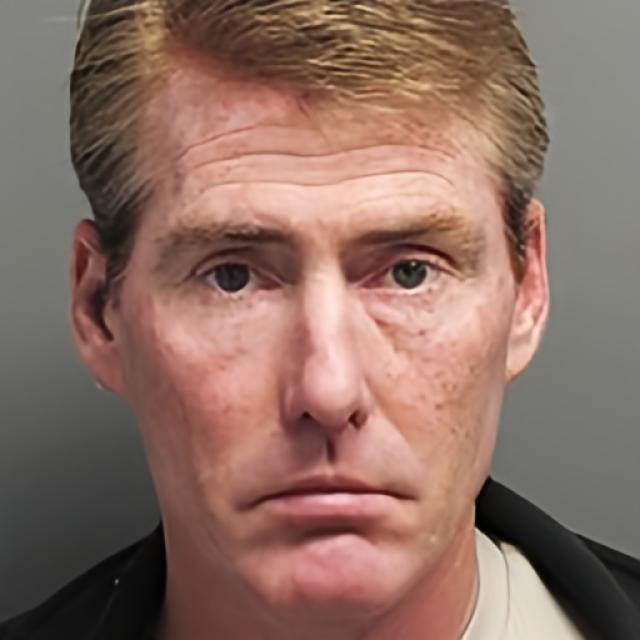sad: (125, 72, 508, 622)
